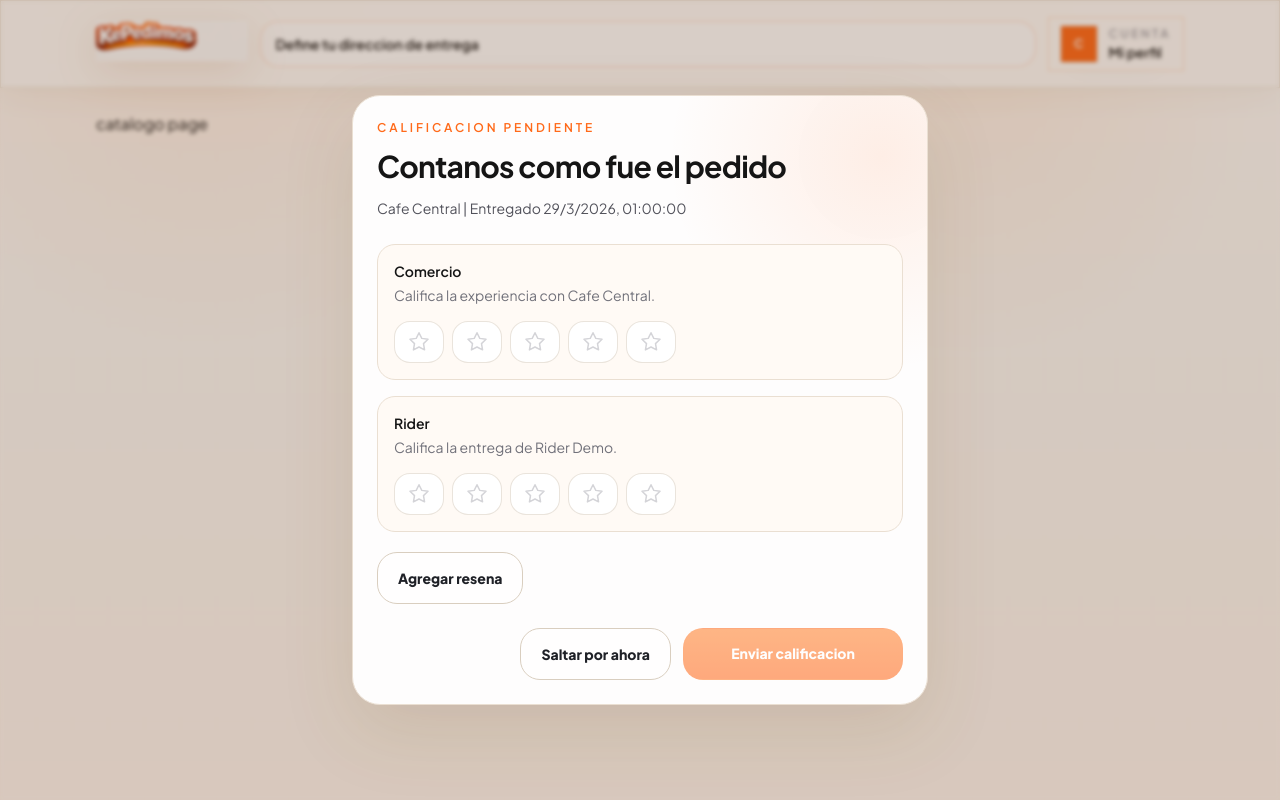
Test: ClienteLayout › muestra la calificacion pendiente y permite enviar sin resena
Expected: the heading "Contanos como fue el pedido" is shown, [377,147,786,185]
Click the radio button named "Comercio 5 estrellas" at {"x": 651, "y": 342}, box [626,321,676,363]
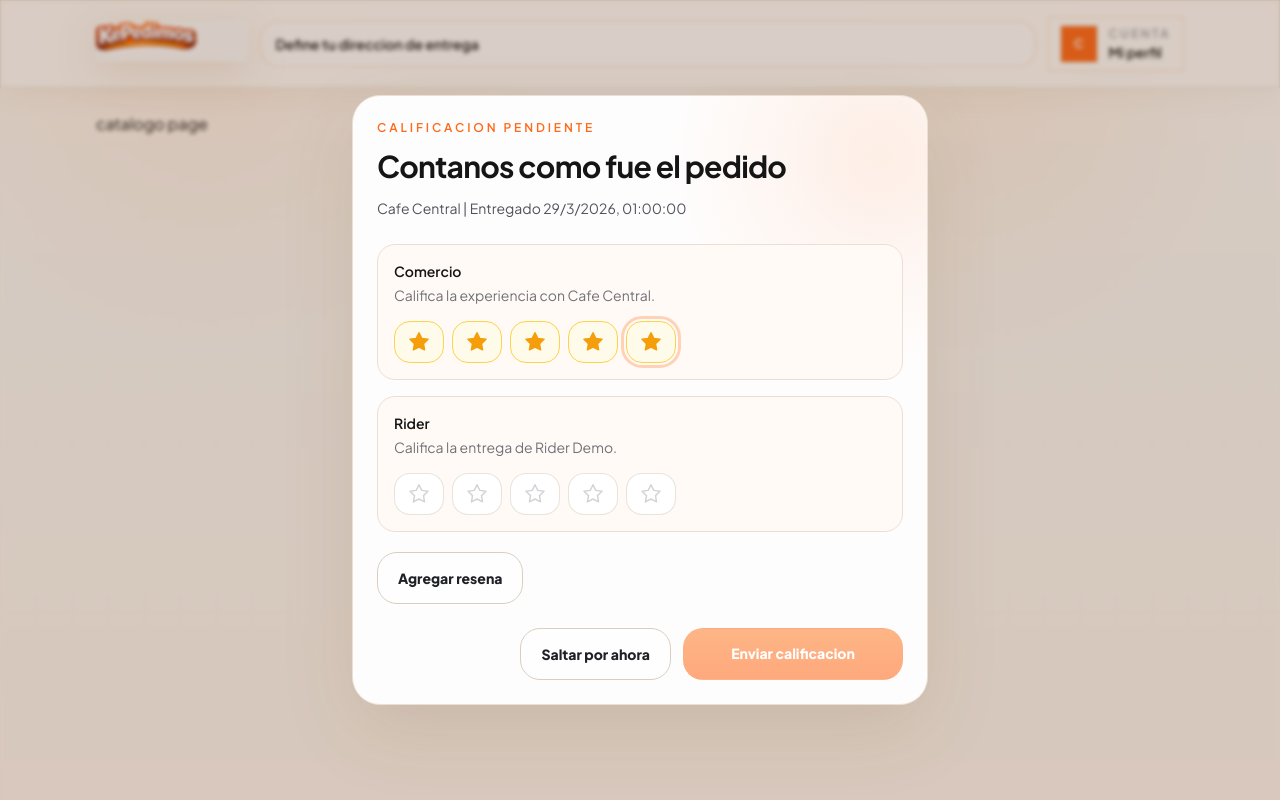
Click the radio button named "Rider 4 estrellas" at {"x": 593, "y": 494}, box [568,473,618,515]
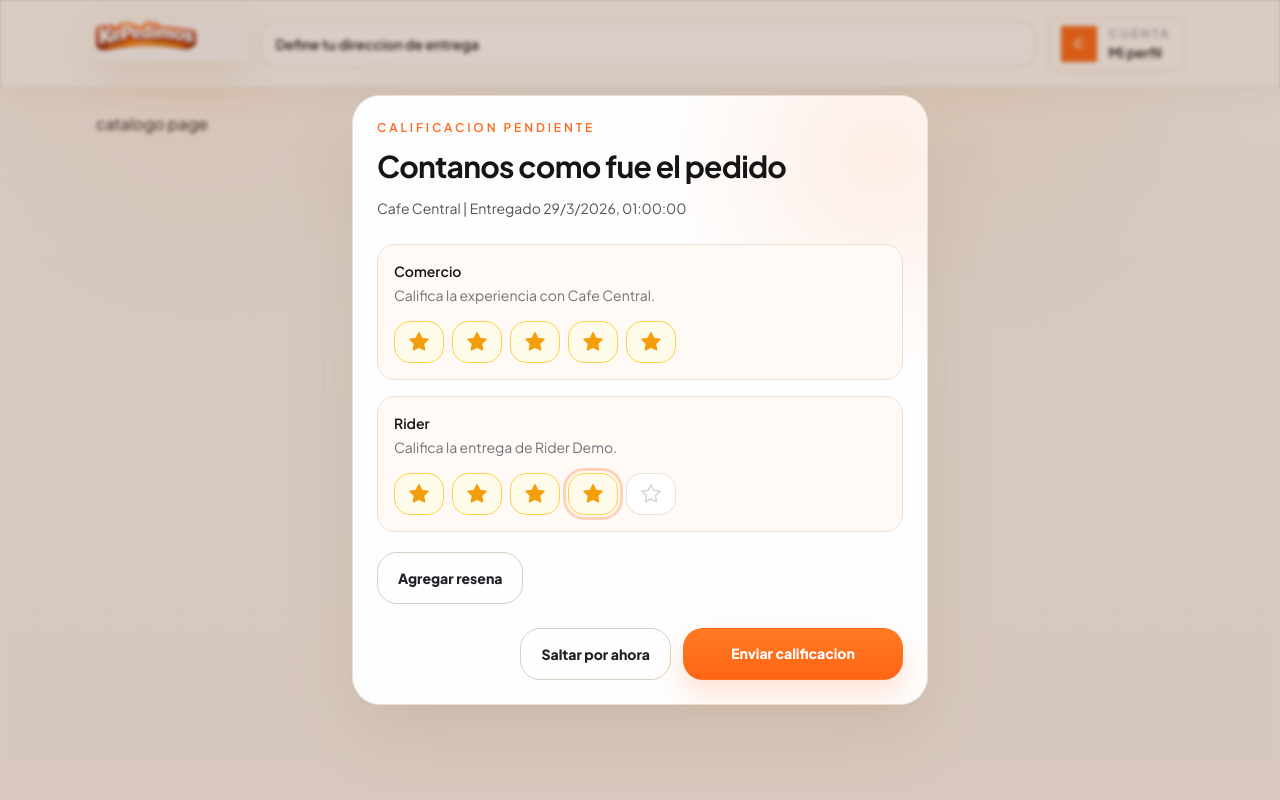
Click the button "Enviar calificacion" at {"x": 793, "y": 654}, box [683,628,903,680]
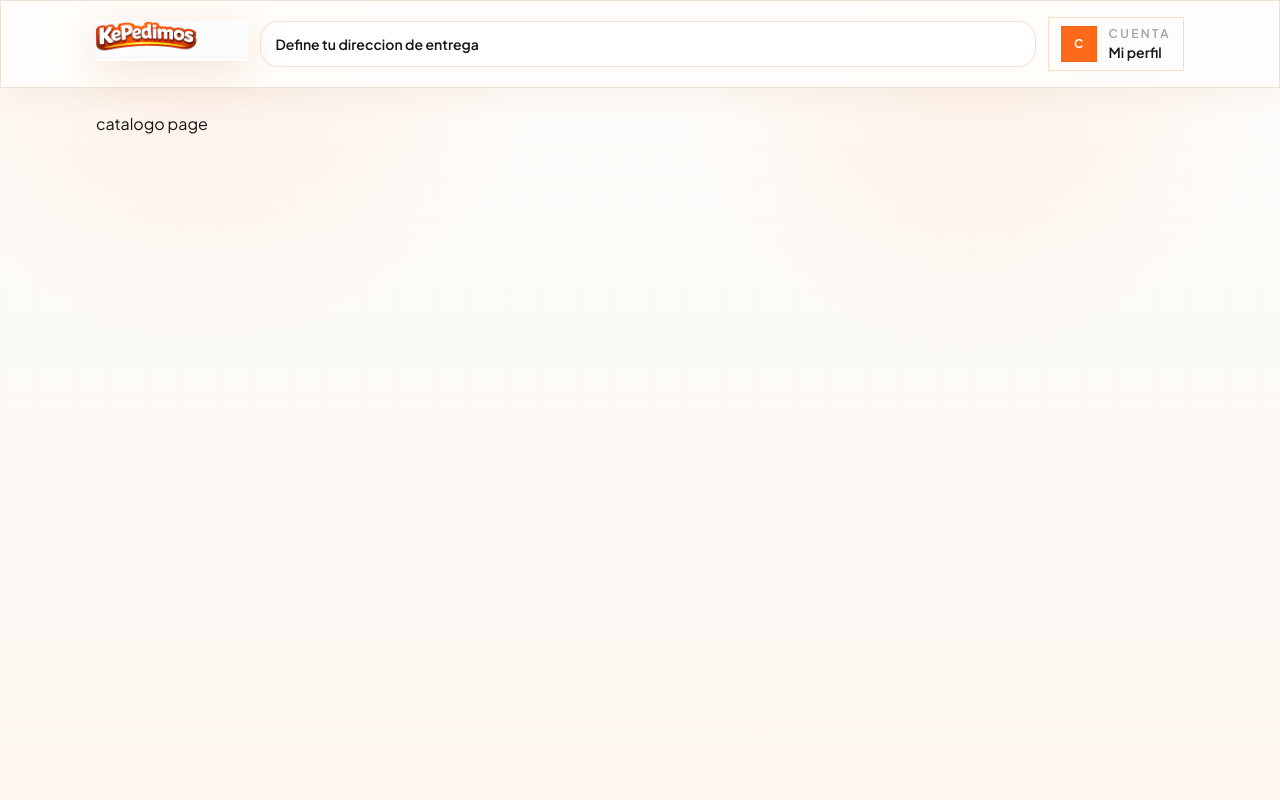
Expected: the heading "Contanos como fue el pedido" is gone
